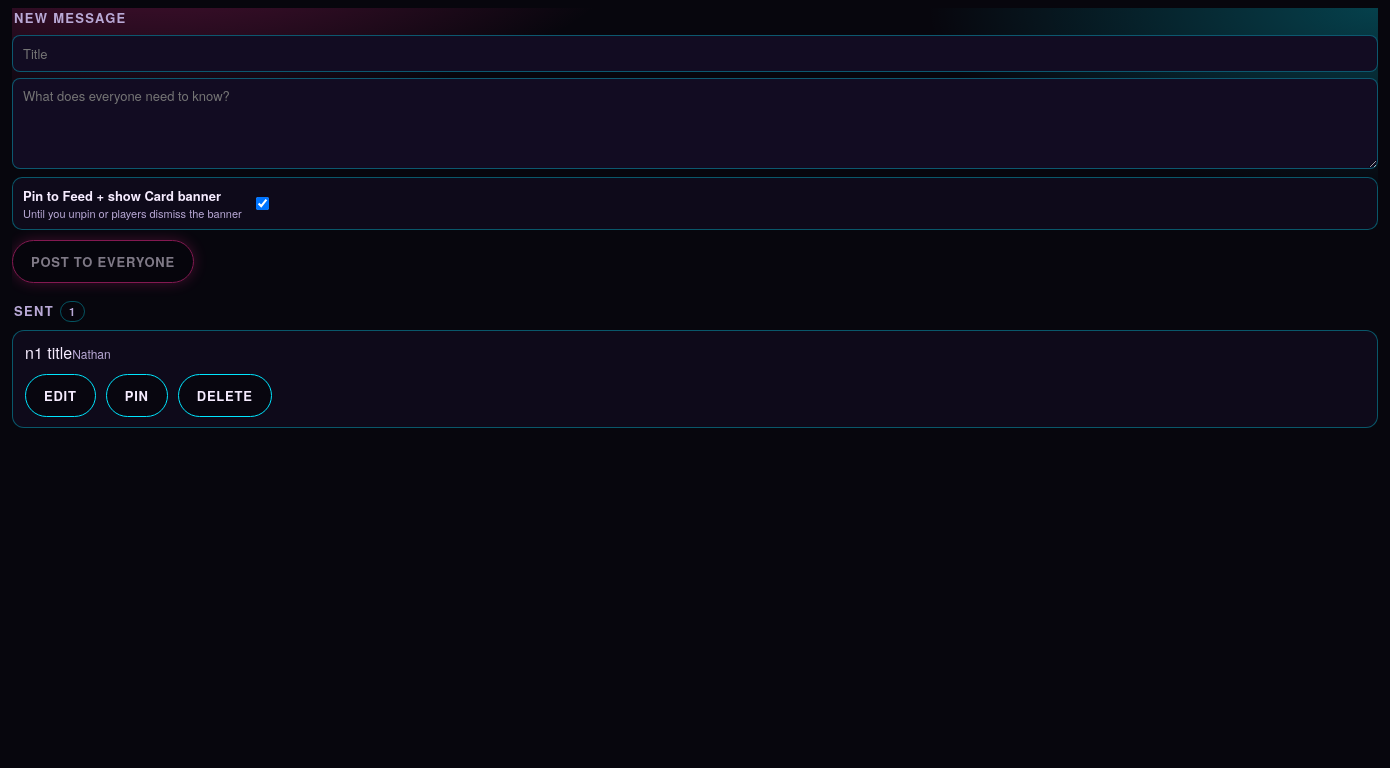
Test case: MessagesPanel (specs/admin-messages.md) › a rejected save keeps the editor open with the draft intact and alerts
Click the button "Edit": click(60, 395) x1=25 y1=374 x2=96 y2=417
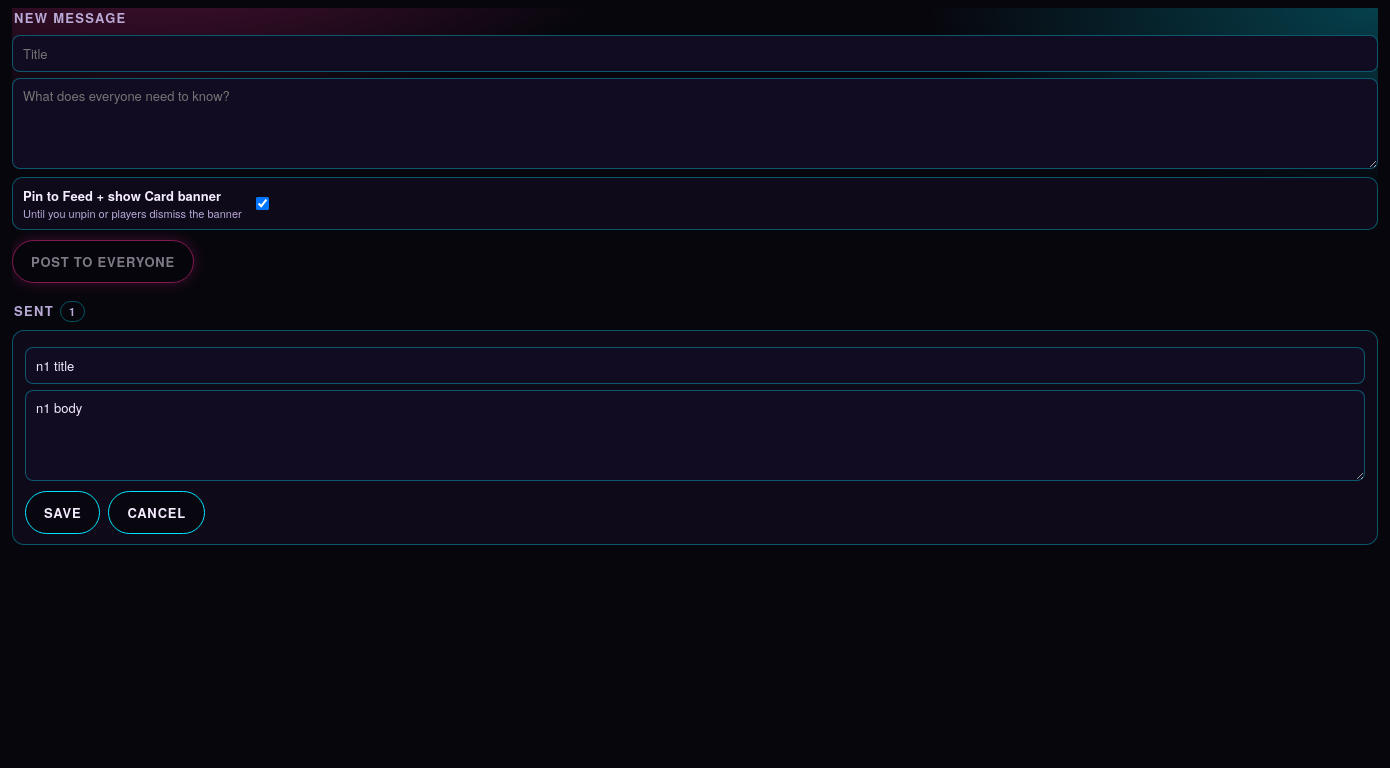
Replace the text in the text box named "Edit notice body" with "kept draft": (695, 435) x1=25 y1=390 x2=1365 y2=481
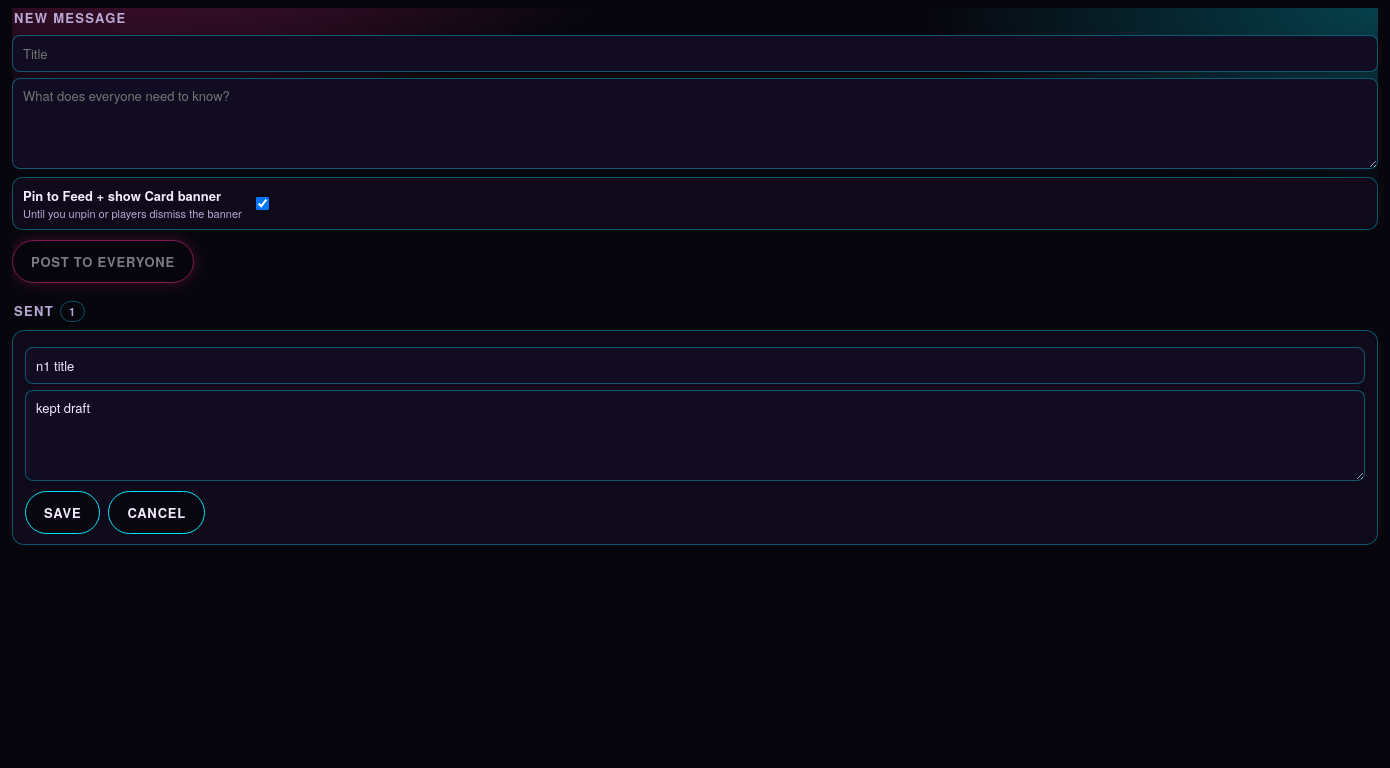
Click the button "Save": click(63, 512) x1=25 y1=490 x2=100 y2=534
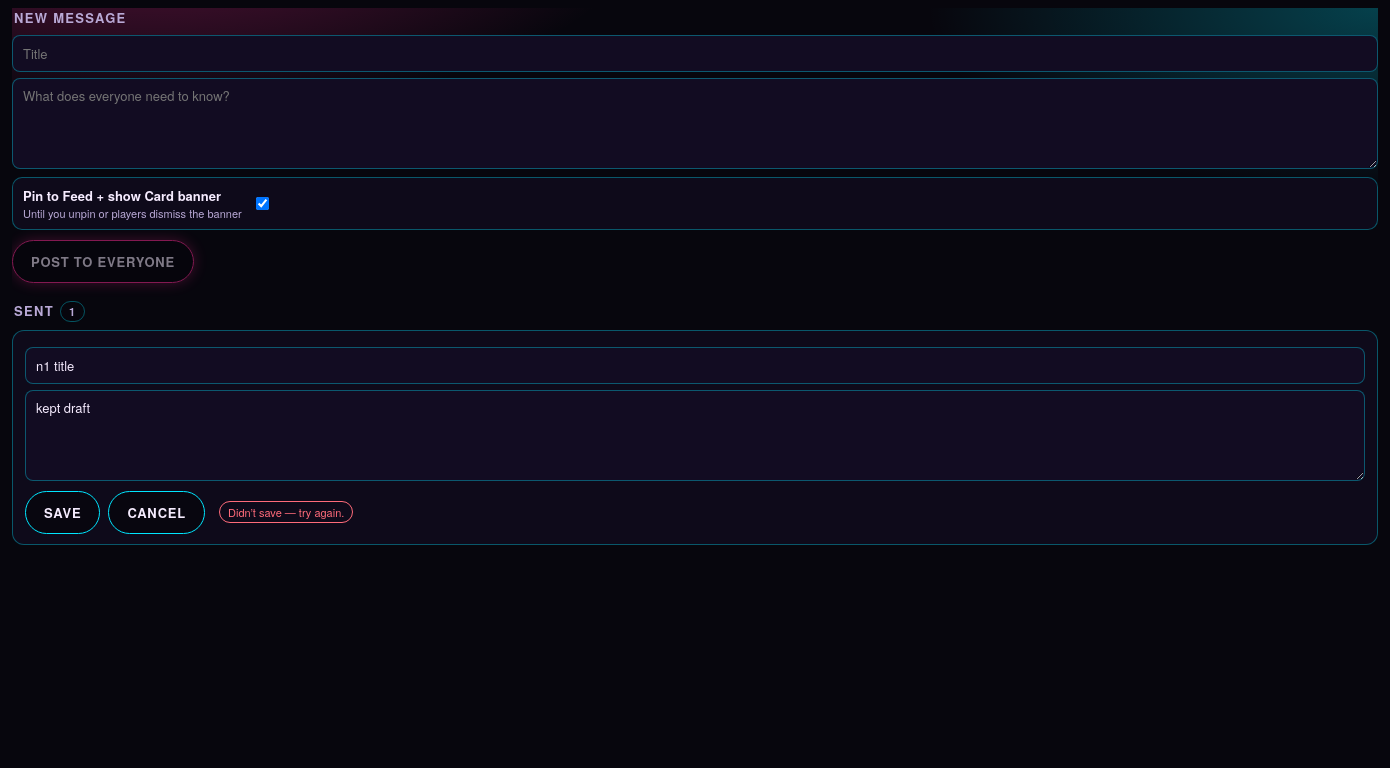
Expected: the message "Didn’t save — try again." is shown, x1=219 y1=501 x2=353 y2=523
